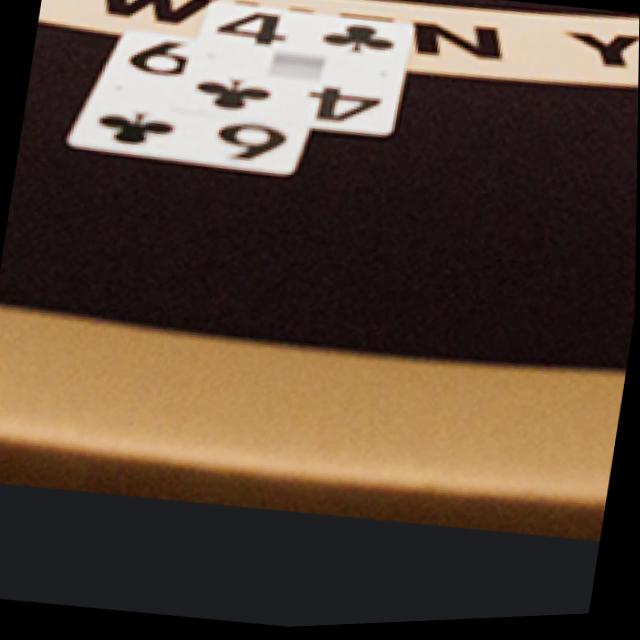Card-4: (180, 1, 413, 137)
Card-6: (68, 29, 309, 177)
